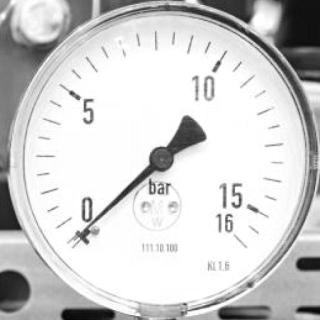gauge: (0, 0, 320, 320), (208, 209, 262, 261), (68, 223, 98, 253), (149, 145, 176, 174), (68, 225, 92, 247)
